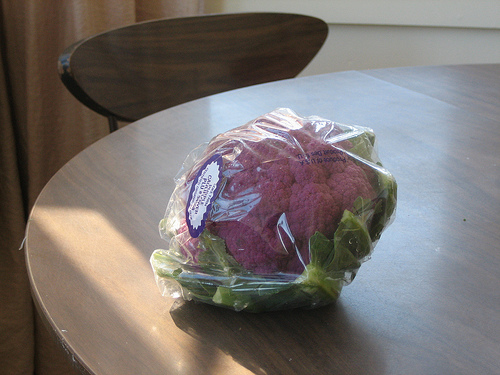cauliflower: (148, 107, 400, 314)
